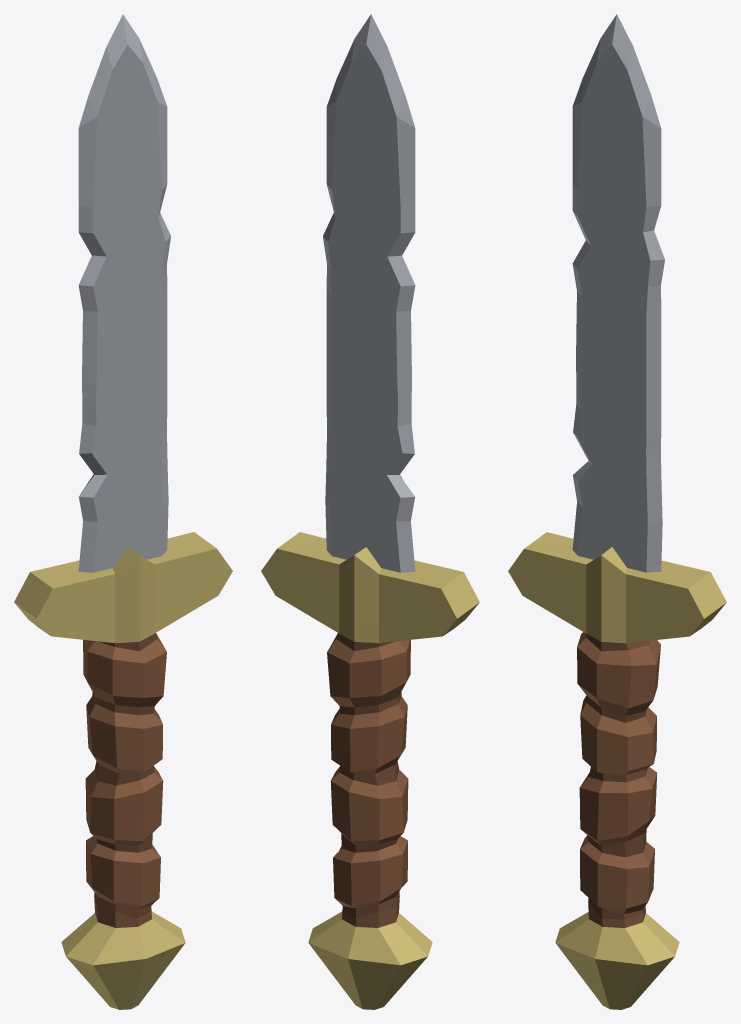
Rendered from knife_0010.glb.
The picture shows the model from 3 angles, left to right: view 1: azimuth 30°, elevation 25°; view 2: azimuth 150°, elevation 25°; view 3: azimuth 330°, elevation 25°; orthographic projection.
Visible parts, largest first — view 1: Knife_0010; view 2: Knife_0010; view 3: Knife_0010.
Boxes of the visible parts, x1,y1,x2,y2 form: Knife_0010: [14, 14, 232, 1009]; Knife_0010: [261, 14, 479, 1009]; Knife_0010: [508, 14, 726, 1009].
Size of the model in its own units: 0.644 by 3.11 by 0.2564.
